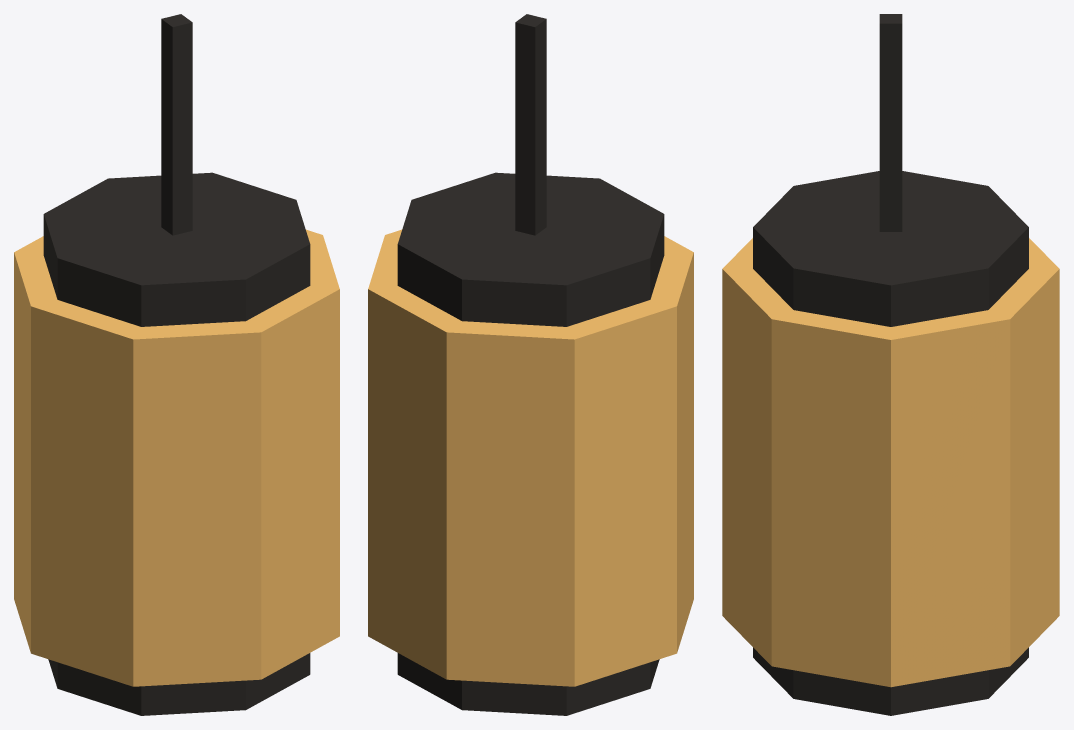
The model's file is prop_paper_lantern.fbx.
3 renders of one model, left to right at view 1: azimuth 30°, elevation 25°; view 2: azimuth 150°, elevation 25°; view 3: azimuth 270°, elevation 25°, orthographic.
Visible parts, largest first — view 1: prop_paper_lantern; view 2: prop_paper_lantern; view 3: prop_paper_lantern.
Part boxes in pixels (left/top/right/bottom): prop_paper_lantern: left=14, top=14, right=339, bottom=715; prop_paper_lantern: left=368, top=14, right=693, bottom=715; prop_paper_lantern: left=722, top=14, right=1059, bottom=715.
Bounding box in the file's own units: 0.44 × 0.92 × 0.44.
Materials: 2 (2 with a texture image).
